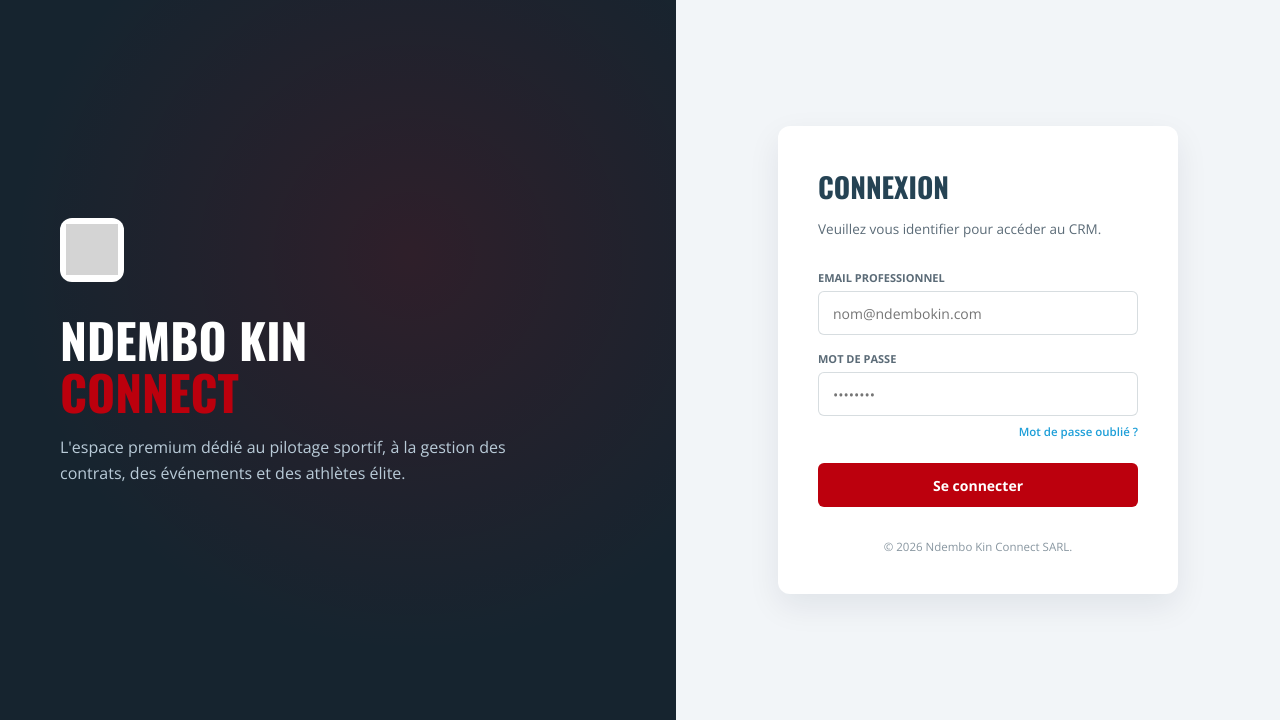
Login › affiche un message d'erreur si login échoue
Type "x@y.com" into the field with placeholder "nom@ndembokin.com". click: (978, 313)
box: [818,291,1138,335]
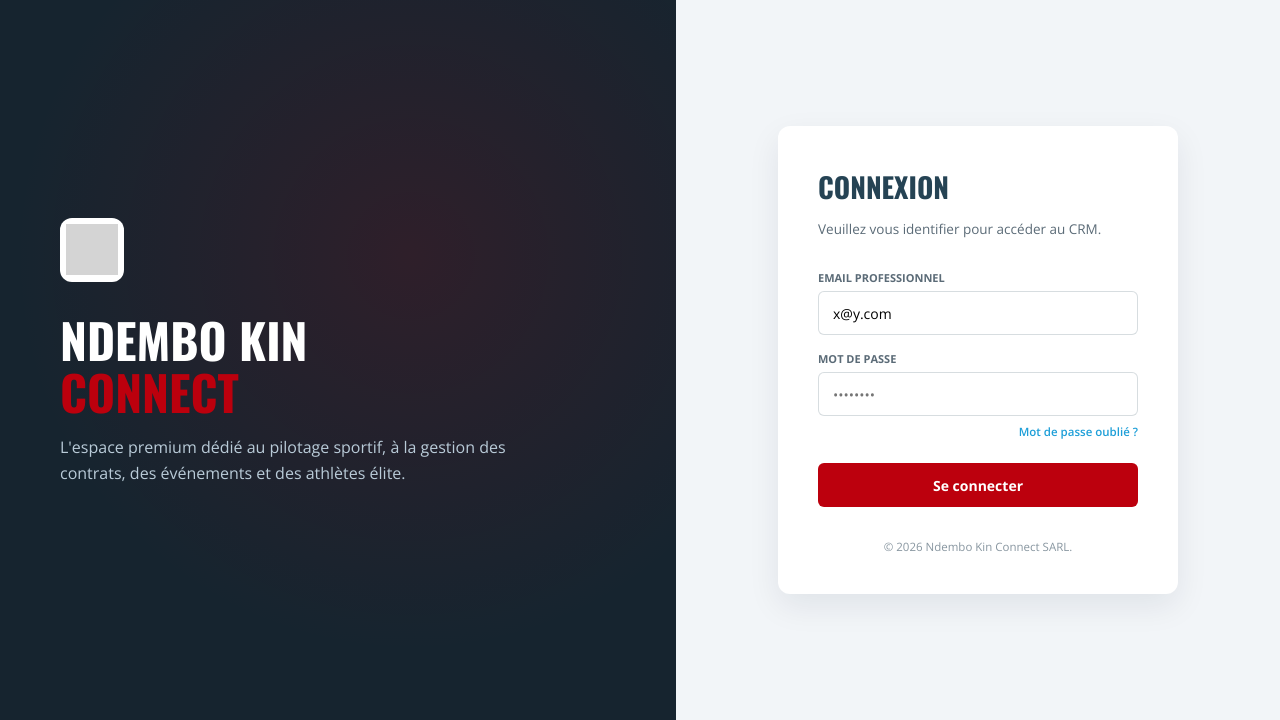
Type "wrong" into the password field with placeholder "••••••••". click: (978, 394)
box: [818,372,1138,416]
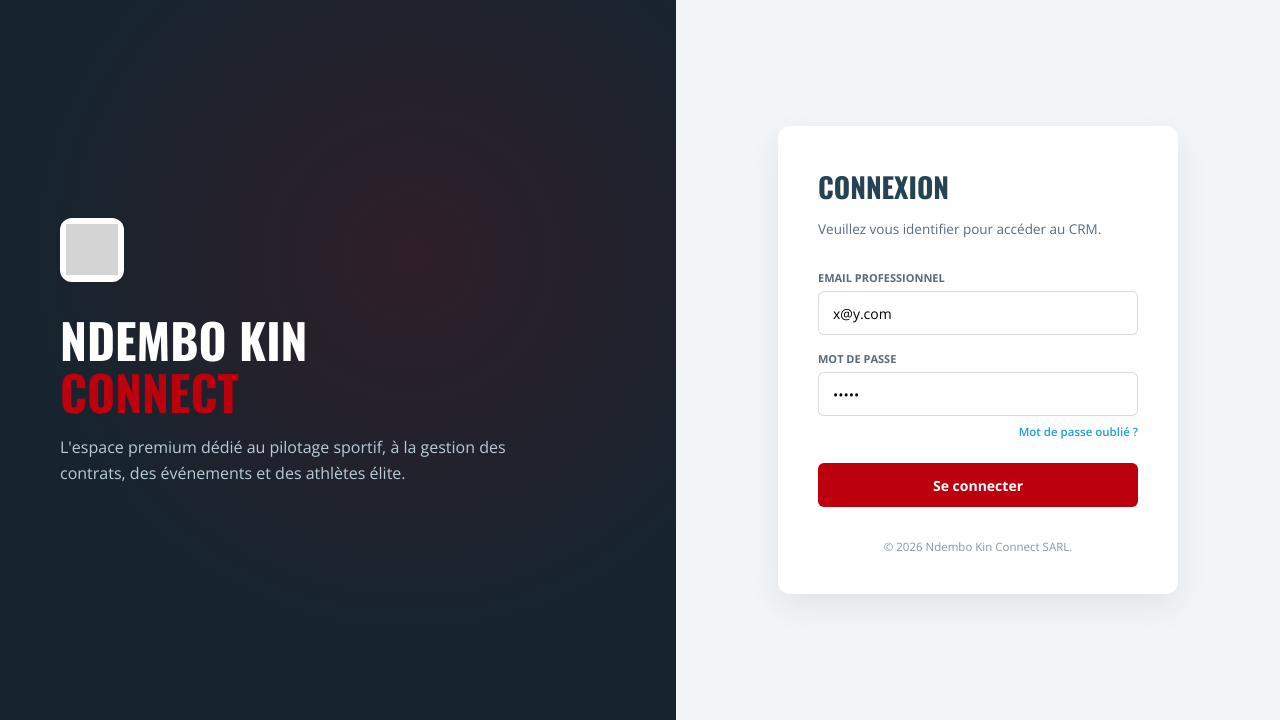
Click the button "Se connecter". click: (978, 485)
box: [818,463,1138,507]
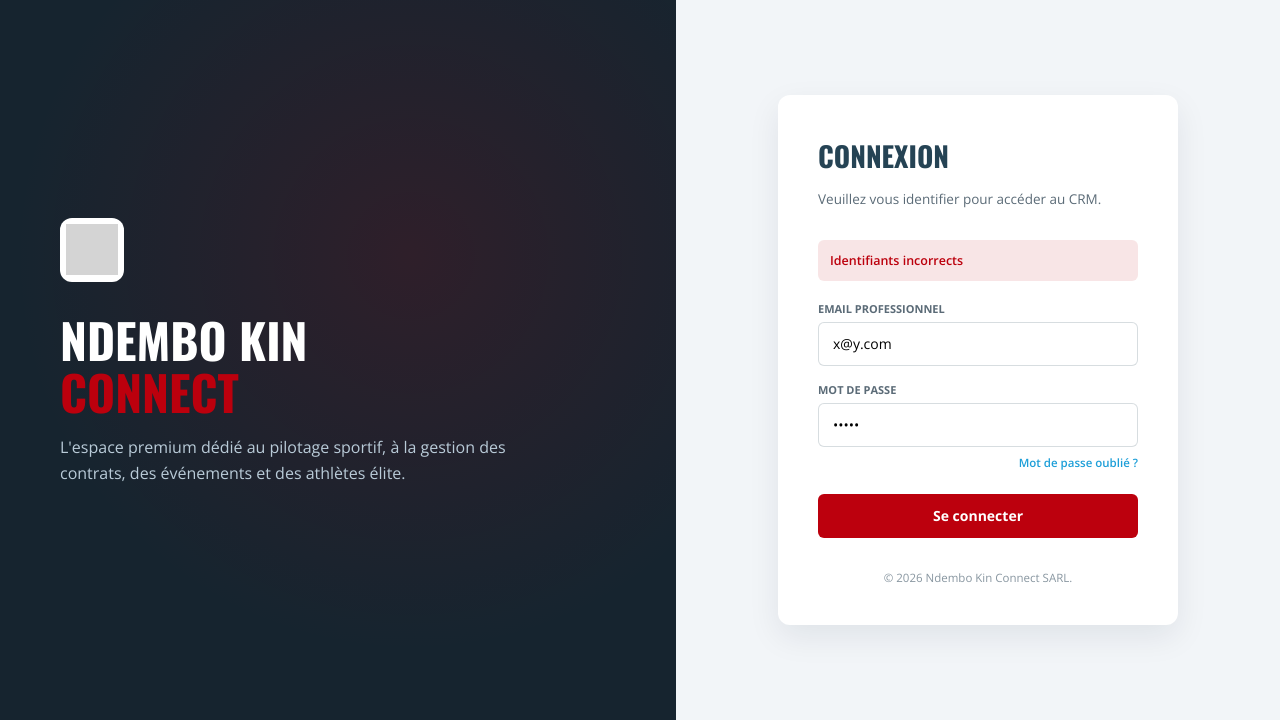
Expected: the text "Identifiants incorrects" is shown, [818,240,1138,281]
